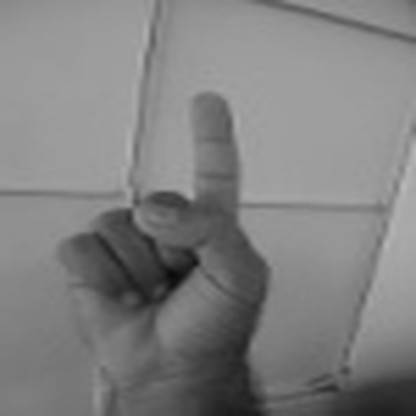d: (58, 84, 269, 386)
